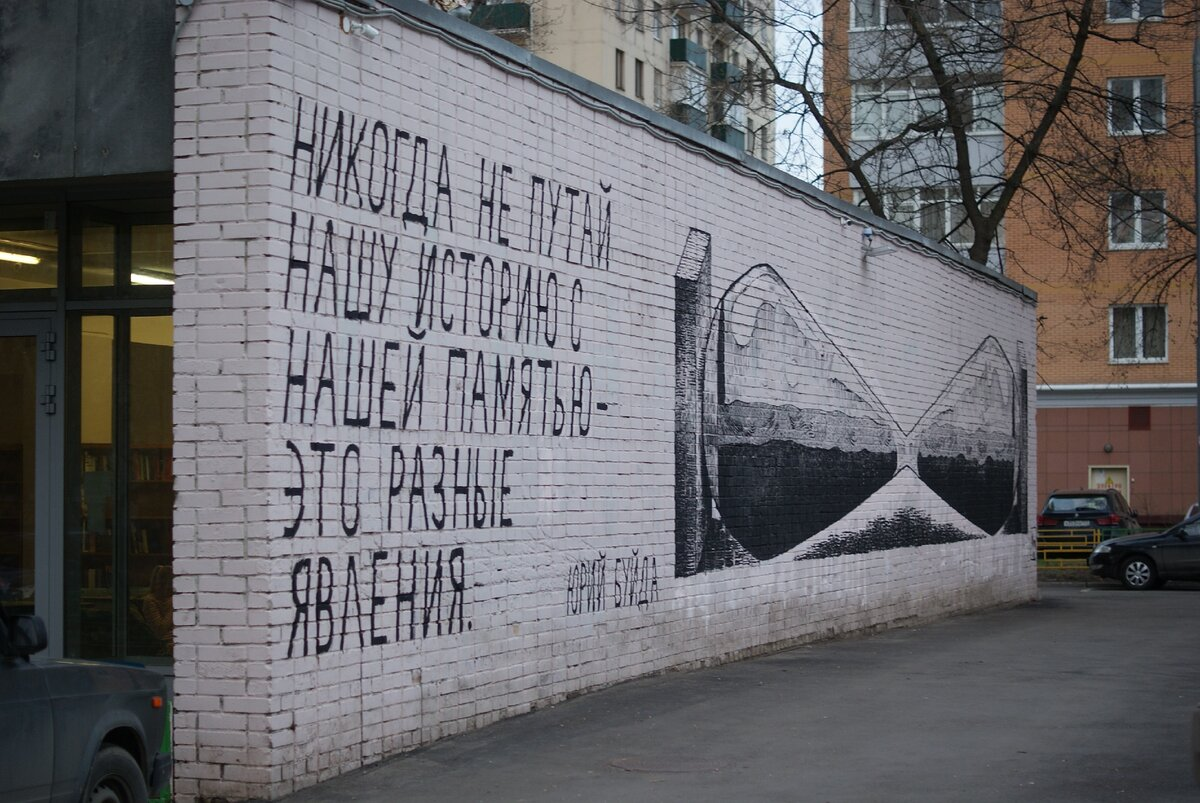graphite: (282, 106, 634, 656), (653, 241, 1033, 576), (561, 549, 682, 629)
